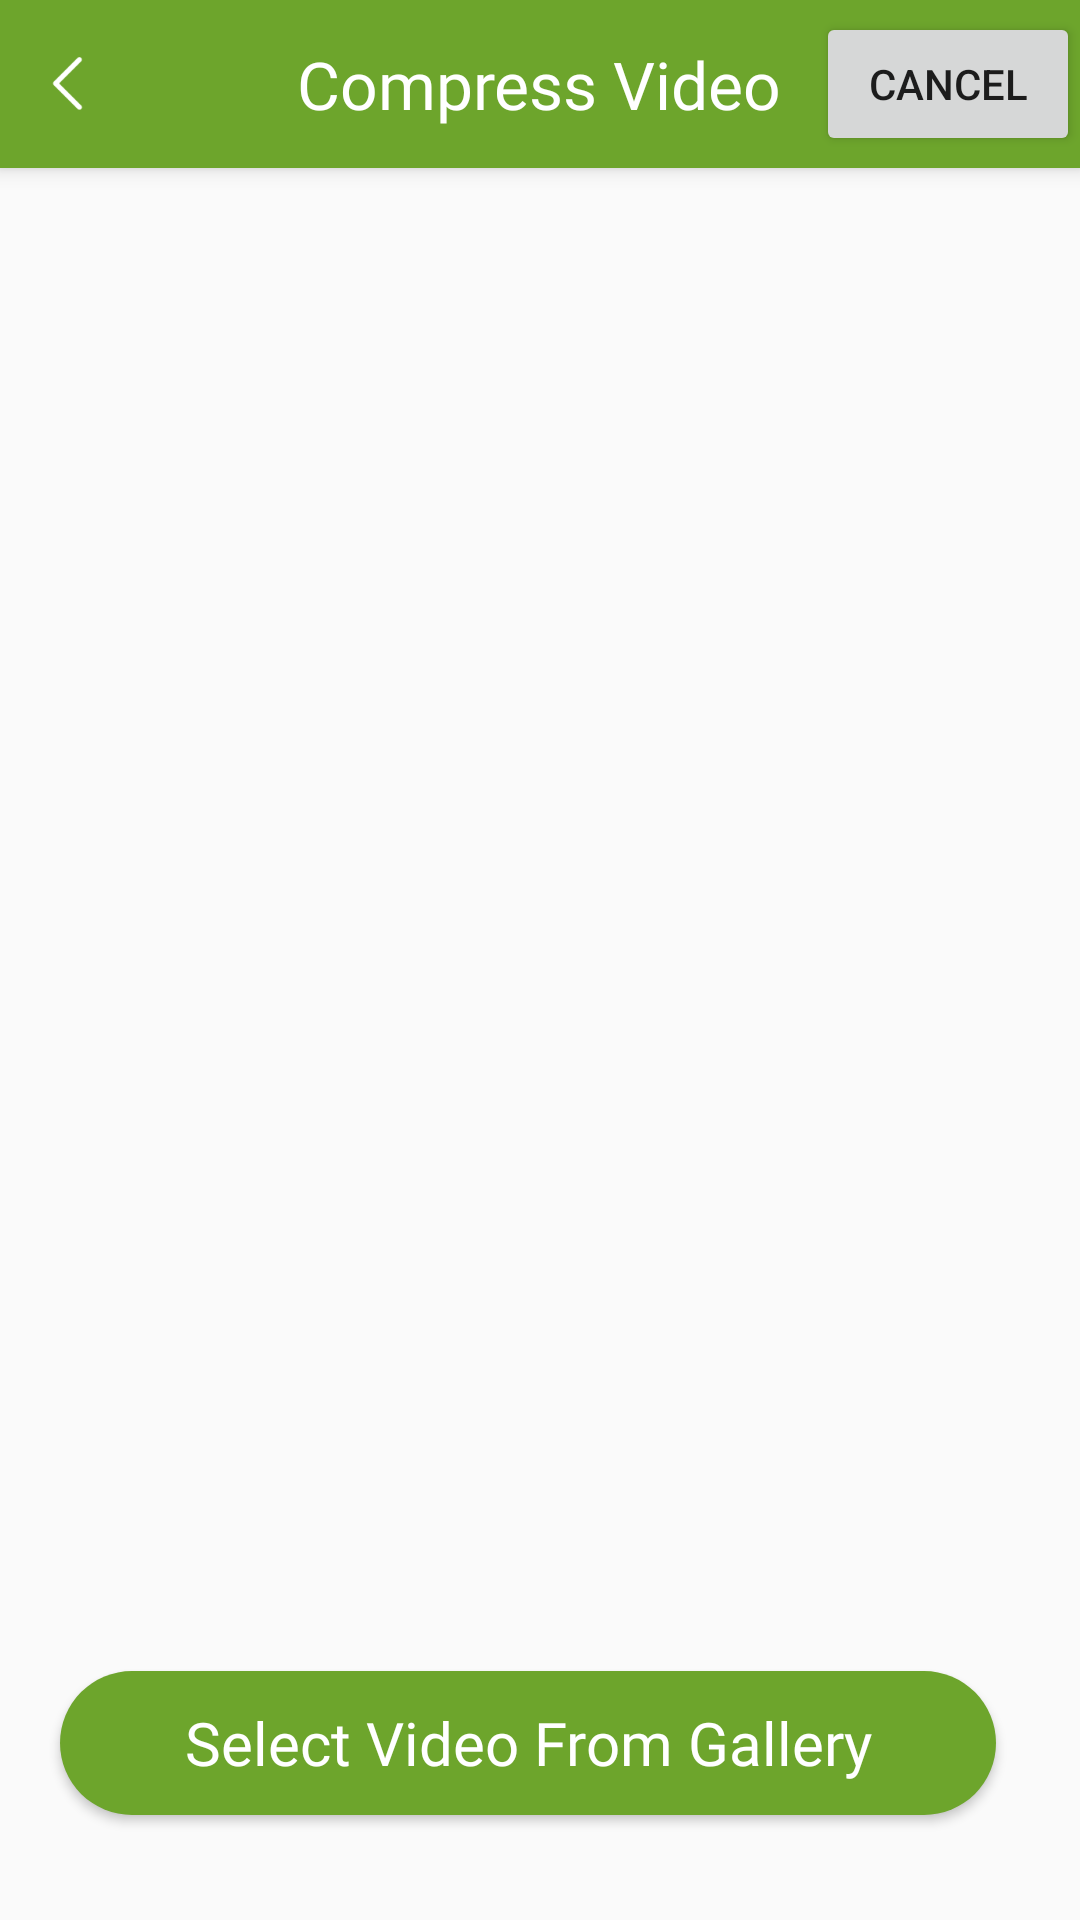

Icons on this 1080 x 1920 Android screen, each with the point to tap as [x,y]:
backarrow: [67,83]
